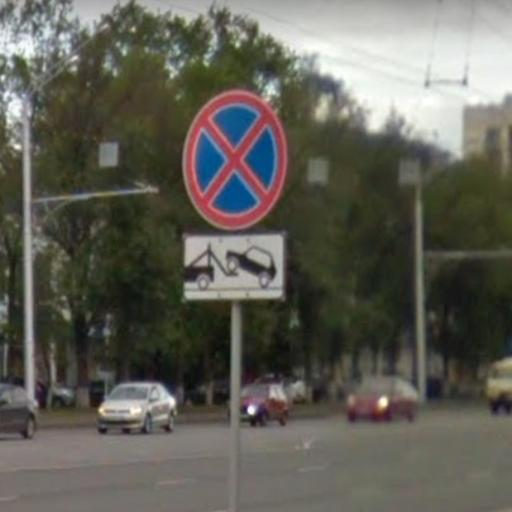traffic_sign: (180, 88, 290, 233)
